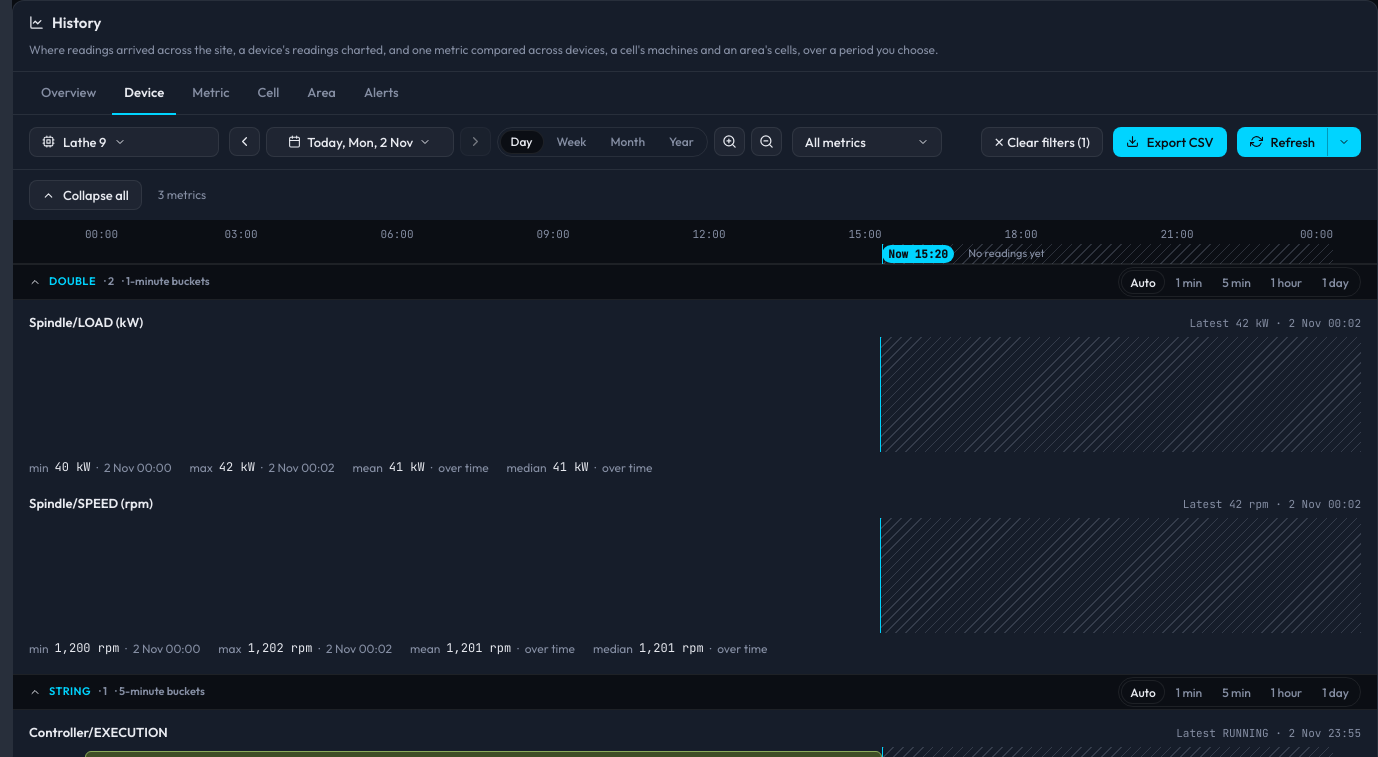
Test: one pointer across every chart and strip › shows no pointer on the axis while a band is drawn: the band says its words there
Expected: the element that starts with "Spindle/LOAD (kW)" is shown, 29,312 -> 1361,477
Press the mouse on the element with class "chart-axis-track" at (709, 242), box 85,220 -> 1333,264
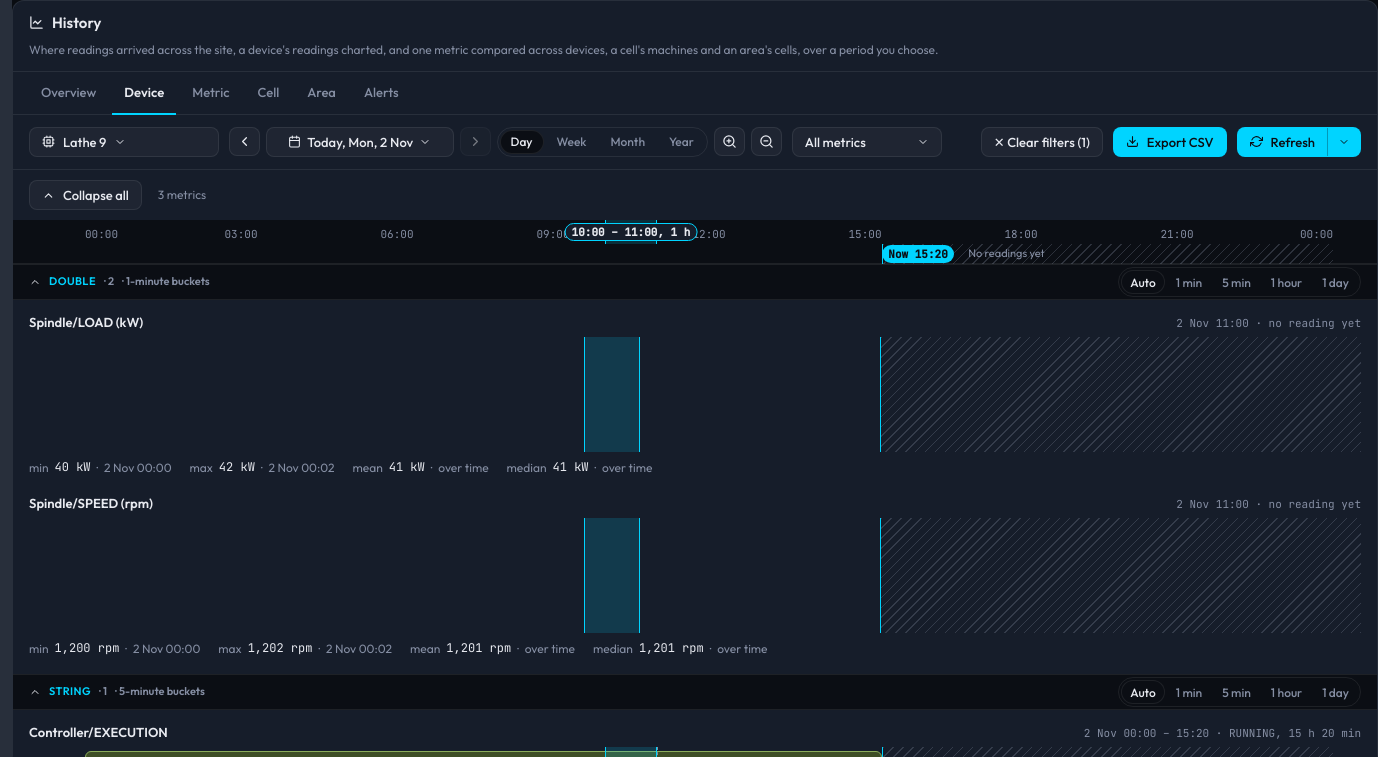
Result: the text "10:00 – 11:00, 1 h" is shown at 565,223 -> 697,241
